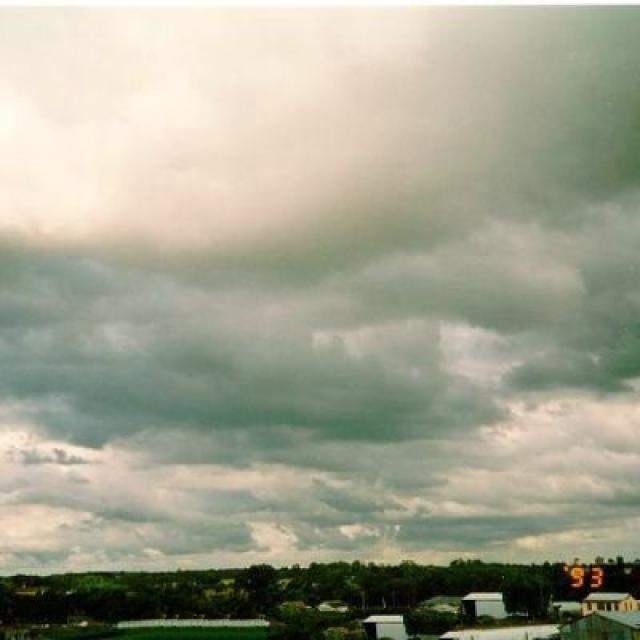Sc: (1, 16, 635, 483)
